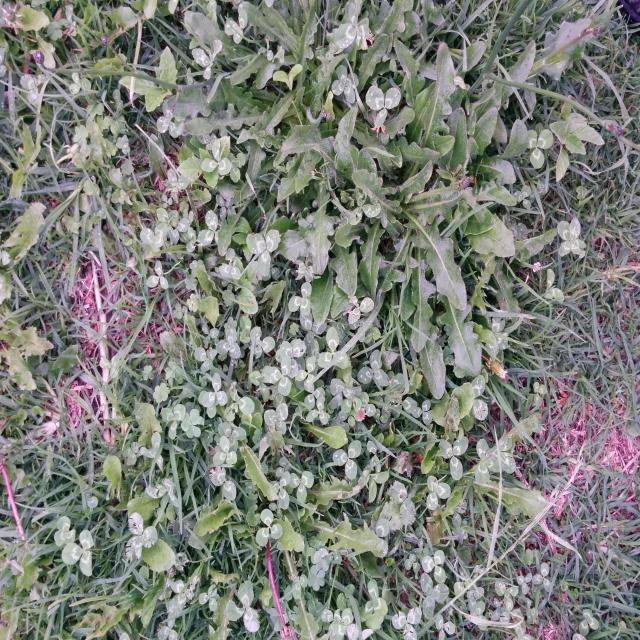Four Leaf Clover: (557, 218, 586, 257), (331, 65, 359, 103)
